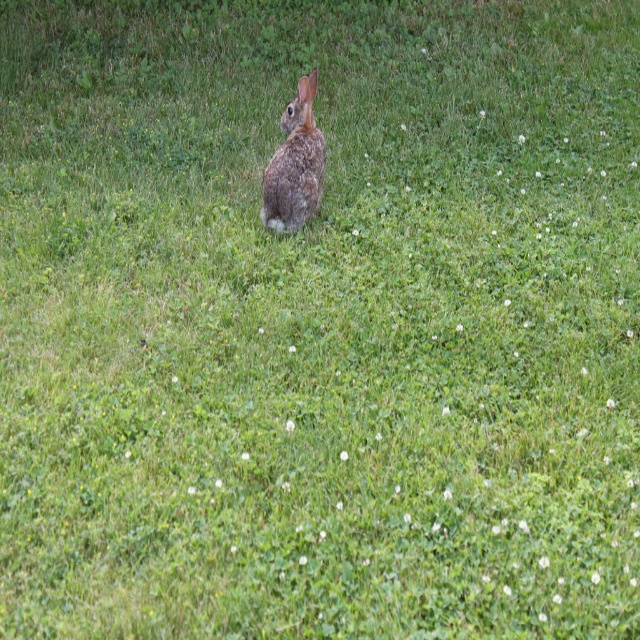Rabbit: (261, 68, 328, 235)
